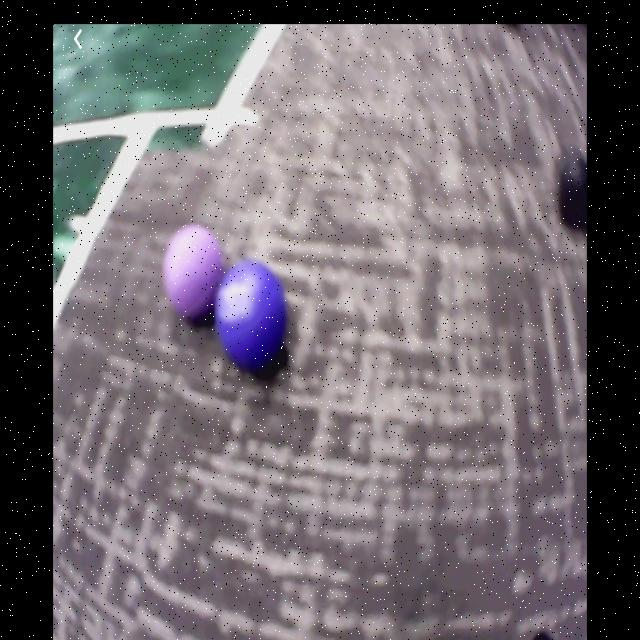ball: (215, 263, 289, 377), (165, 227, 223, 322)
